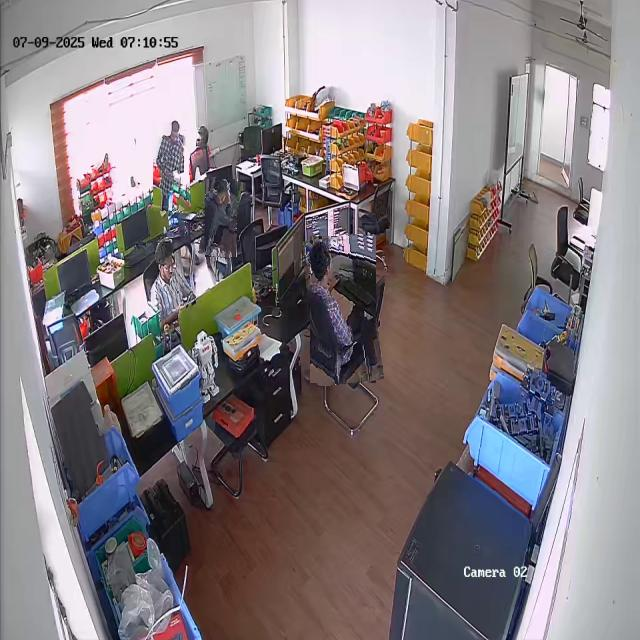person: (306, 234, 380, 385), (152, 121, 190, 211), (148, 239, 190, 315), (202, 178, 240, 258)
